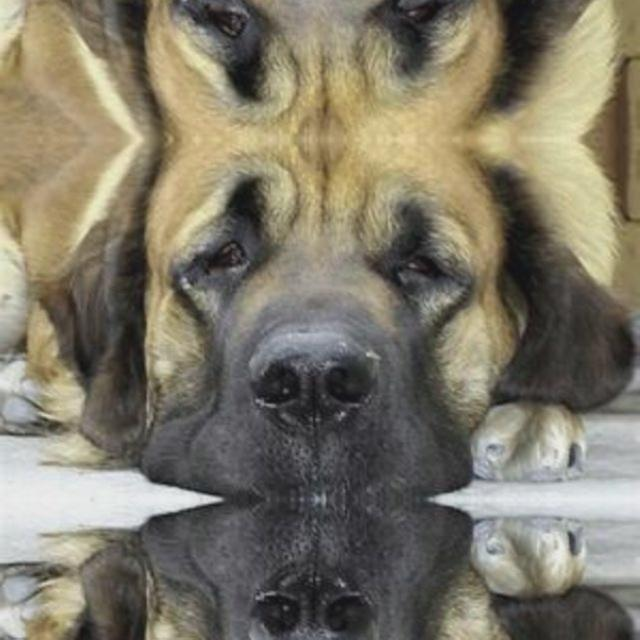dog: (132, 145, 546, 500), (133, 499, 546, 640), (133, 0, 546, 133)
